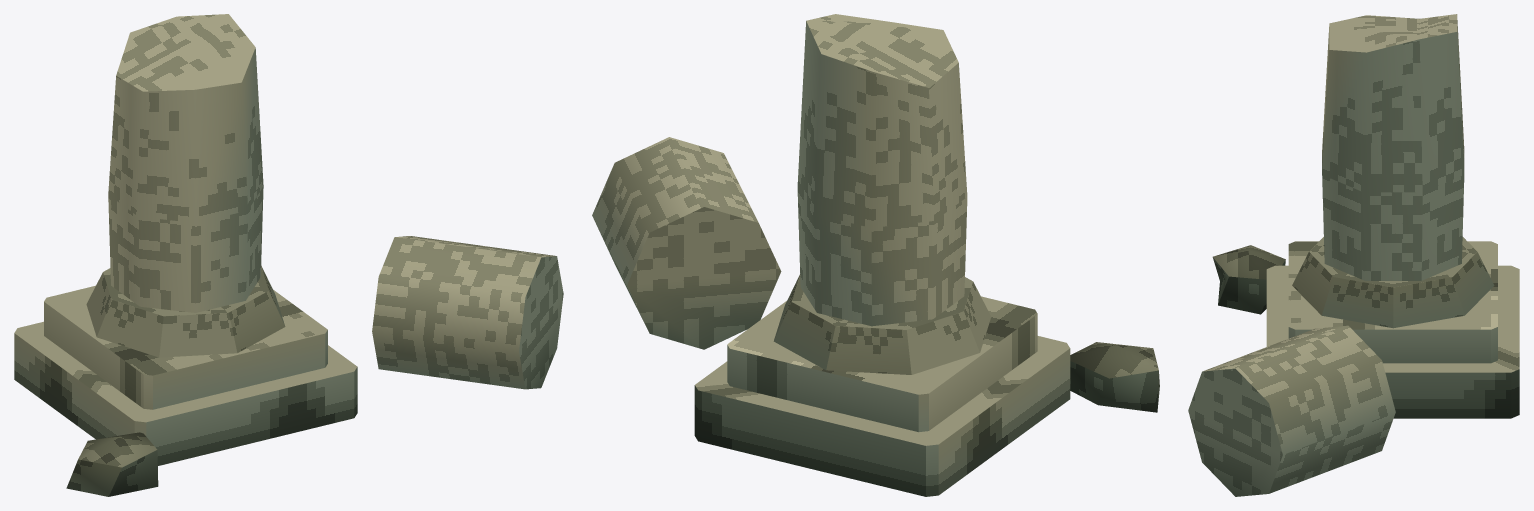
File: ruin.column__broken.glb
3 views of the same model, side by side, from view 1: azimuth 30°, elevation 25°; view 2: azimuth 150°, elevation 25°; view 3: azimuth 270°, elevation 25° (orthographic). The views are drawn at different scales.
Visible parts, largest first — view 1: kit_shaft, kit_plinth, kit_fallen, kit_base; view 2: kit_shaft, kit_plinth, kit_fallen, kit_base; view 3: kit_shaft, kit_fallen, kit_plinth, kit_base.
Boxes of the visible parts, left/top/right/bottom form: kit_shaft: left=108, top=14, right=263, bottom=312; kit_plinth: left=14, top=285, right=357, bottom=465; kit_fallen: left=66, top=236, right=563, bottom=496; kit_base: left=86, top=265, right=285, bottom=357; kit_shaft: left=797, top=14, right=967, bottom=326; kit_plinth: left=694, top=296, right=1070, bottom=496; kit_fallen: left=592, top=137, right=1159, bottom=412; kit_base: left=773, top=274, right=991, bottom=374; kit_shaft: left=1322, top=14, right=1464, bottom=280; kit_fallen: left=1188, top=245, right=1395, bottom=496; kit_plinth: left=1266, top=241, right=1519, bottom=418; kit_base: left=1292, top=237, right=1494, bottom=328.
Size of the model in its own units: 3.41 by 2.31 by 1.97.
Materials: 4 (4 with a texture image).
